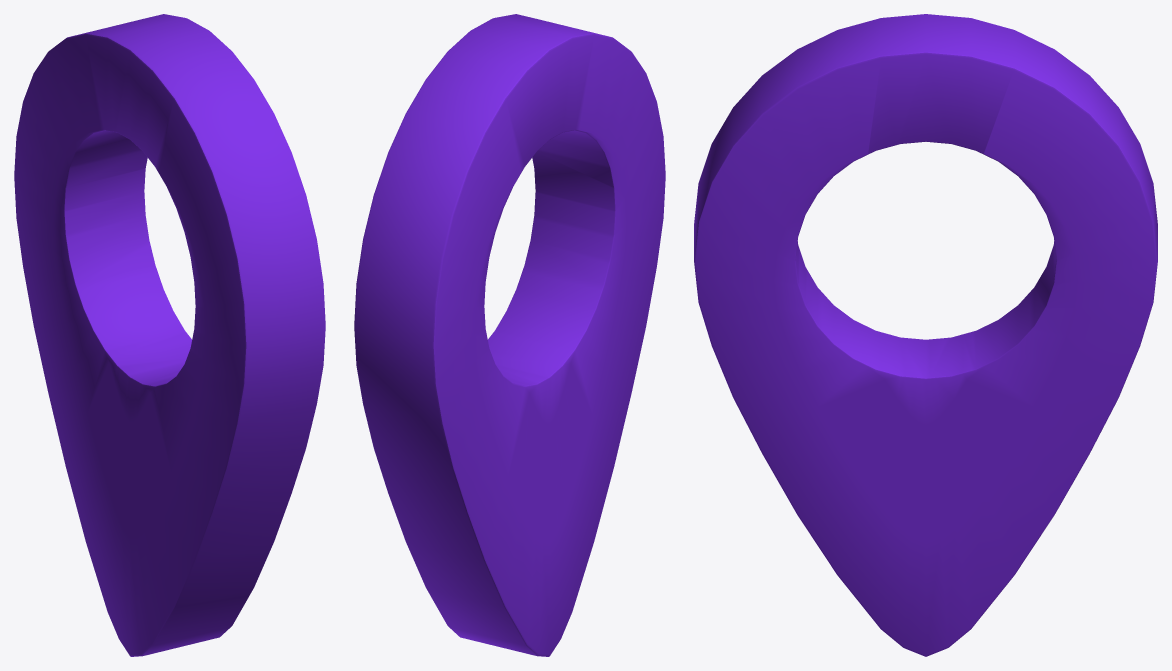
File: PurplePins.fbx
The picture shows the model from 3 angles, left to right: view 1: azimuth 30°, elevation 25°; view 2: azimuth 150°, elevation 25°; view 3: azimuth 270°, elevation 25°; orthographic projection.
Parts seen in each view (by area): view 1: PurplePins; view 2: PurplePins; view 3: PurplePins.
Boxes of the visible parts, x1,y1,x2,y2 form: PurplePins: [14, 14, 325, 656]; PurplePins: [354, 14, 665, 656]; PurplePins: [694, 14, 1157, 656].
Bounding box in the file's own units: 69.62 × 100 × 13.91.
